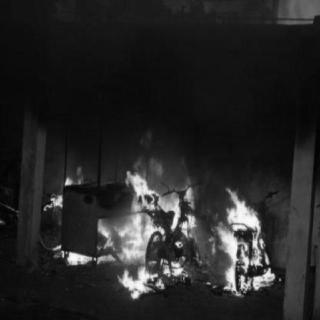Smoke: (20, 14, 286, 137)
